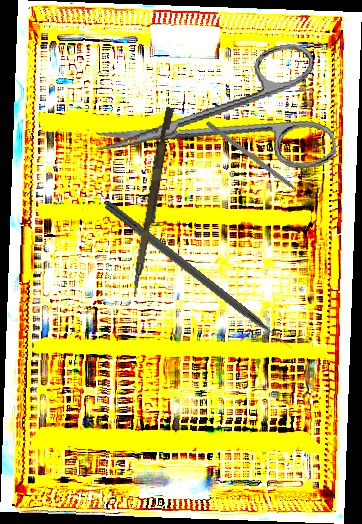Chopper: (201, 120, 311, 208)
Hook Surgical: (102, 200, 295, 355)
Iris Scissors: (86, 39, 339, 200)
Pusher: (130, 106, 175, 299)
